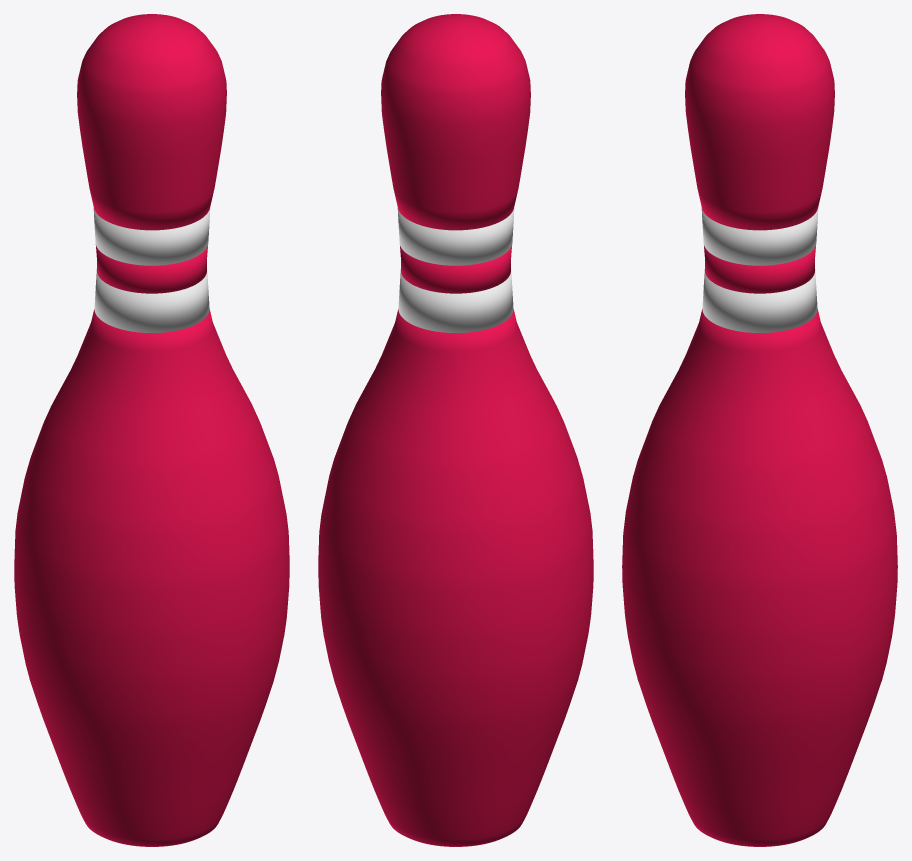
File: bolichePino.glb
The picture shows the model from 3 angles, left to right: view 1: azimuth 30°, elevation 25°; view 2: azimuth 150°, elevation 25°; view 3: azimuth 270°, elevation 25°; orthographic projection.
Visible parts, largest first — view 1: pin, rings; view 2: pin, rings; view 3: pin, rings.
Part boxes in pixels (x1=…): pin: x1=14, y1=14, x2=289, y2=846; rings: x1=93, y1=207, x2=210, y2=332; pin: x1=318, y1=14, x2=593, y2=846; rings: x1=397, y1=207, x2=514, y2=332; pin: x1=622, y1=14, x2=897, y2=846; rings: x1=701, y1=208, x2=818, y2=332.
Bounding box in the file's own units: 0.6507 × 2.08 × 0.6507.
